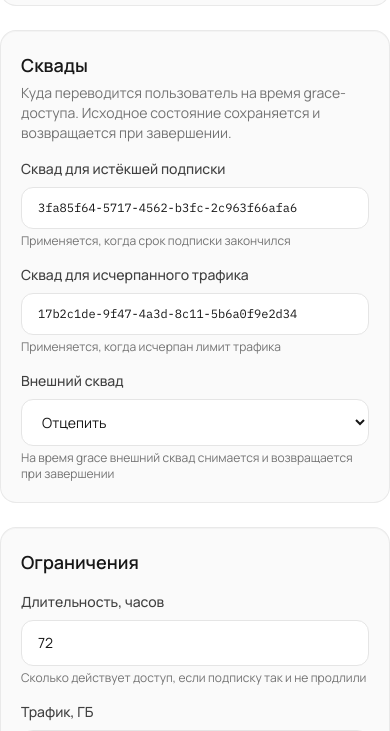
Test case: раздел grace-доступа › выбор «Аварийный сквад» не сбрасывается обратно на «Отцепить»
(page scrolled)
Select "Аварийный сквад" in the dropdown labelled "Внешний сквад" at (195, 422), box [21,399,369,446]
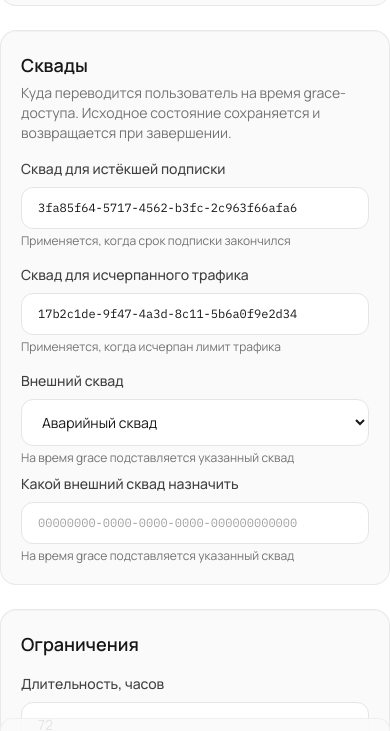
Now the field labelled "Какой внешний сквад назначить" is shown, box [21,502,369,544]
